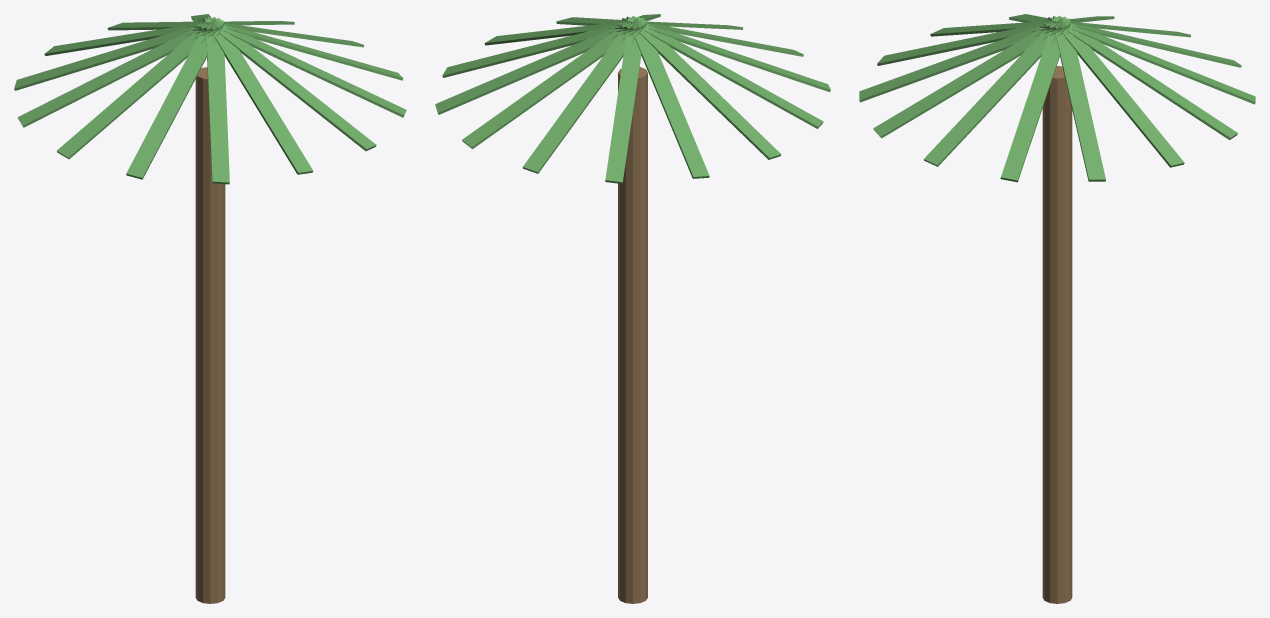
File: palm_v2_02.glb
3 views of the same model, side by side, from view 1: azimuth 30°, elevation 25°; view 2: azimuth 150°, elevation 25°; view 3: azimuth 270°, elevation 25° (orthographic).
Visible parts, largest first — view 1: Trunk.001, Frond_12, Frond_11.001, Frond_13, Frond_0.001, Frond_10.001, Frond_1.001, Frond_9.001, Frond_2.001, Frond_8.001, Frond_3.001, Frond_4.001 (+1 smaller); view 2: Trunk.001, Frond_7.001, Frond_8.001, Frond_6.001, Frond_9.001, Frond_10.001, Frond_5.001, Frond_11.001, Frond_4.001, Frond_12, Frond_3.001, Frond_13; view 3: Trunk.001, Frond_2.001, Frond_3.001, Frond_4.001, Frond_1.001, Frond_5.001, Frond_0.001, Frond_6.001, Frond_7.001, Frond_13, Frond_8.001, Frond_12 (+1 smaller).
Part boxes in pixels (bbox=[...]): Trunk.001: bbox=[195, 67, 225, 603]; Frond_12: bbox=[126, 18, 224, 179]; Frond_11.001: bbox=[57, 18, 222, 159]; Frond_13: bbox=[206, 19, 229, 184]; Frond_0.001: bbox=[204, 18, 313, 174]; Frond_10.001: bbox=[17, 19, 218, 127]; Frond_1.001: bbox=[204, 17, 376, 151]; Frond_9.001: bbox=[14, 19, 215, 90]; Frond_2.001: bbox=[205, 17, 406, 117]; Frond_8.001: bbox=[44, 20, 216, 55]; Frond_3.001: bbox=[202, 17, 403, 80]; Frond_4.001: bbox=[198, 19, 364, 47]; Trunk.001: bbox=[618, 67, 647, 603]; Frond_7.001: bbox=[522, 17, 646, 173]; Frond_8.001: bbox=[605, 18, 646, 183]; Frond_6.001: bbox=[462, 17, 644, 148]; Frond_9.001: bbox=[627, 18, 709, 178]; Frond_10.001: bbox=[627, 16, 781, 159]; Frond_5.001: bbox=[435, 18, 639, 114]; Frond_11.001: bbox=[627, 16, 823, 128]; Frond_4.001: bbox=[442, 19, 638, 77]; Frond_12: bbox=[626, 16, 830, 92]; Frond_3.001: bbox=[484, 20, 638, 45]; Frond_13: bbox=[622, 18, 803, 56]; Trunk.001: bbox=[1042, 66, 1072, 603]; Frond_2.001: bbox=[924, 17, 1070, 166]; Frond_3.001: bbox=[1000, 17, 1071, 182]; Frond_4.001: bbox=[1052, 18, 1105, 181]; Frond_1.001: bbox=[873, 17, 1067, 138]; Frond_5.001: bbox=[1051, 16, 1184, 167]; Frond_0.001: bbox=[859, 18, 1062, 102]; Frond_6.001: bbox=[1051, 15, 1237, 139]; Frond_7.001: bbox=[1052, 16, 1255, 104]; Frond_13: bbox=[877, 19, 1063, 65]; Frond_8.001: bbox=[1047, 17, 1241, 67]; Frond_12: bbox=[930, 20, 1063, 36].
Bounding box in the file's own units: 4.47 × 7.26 × 4.51.
